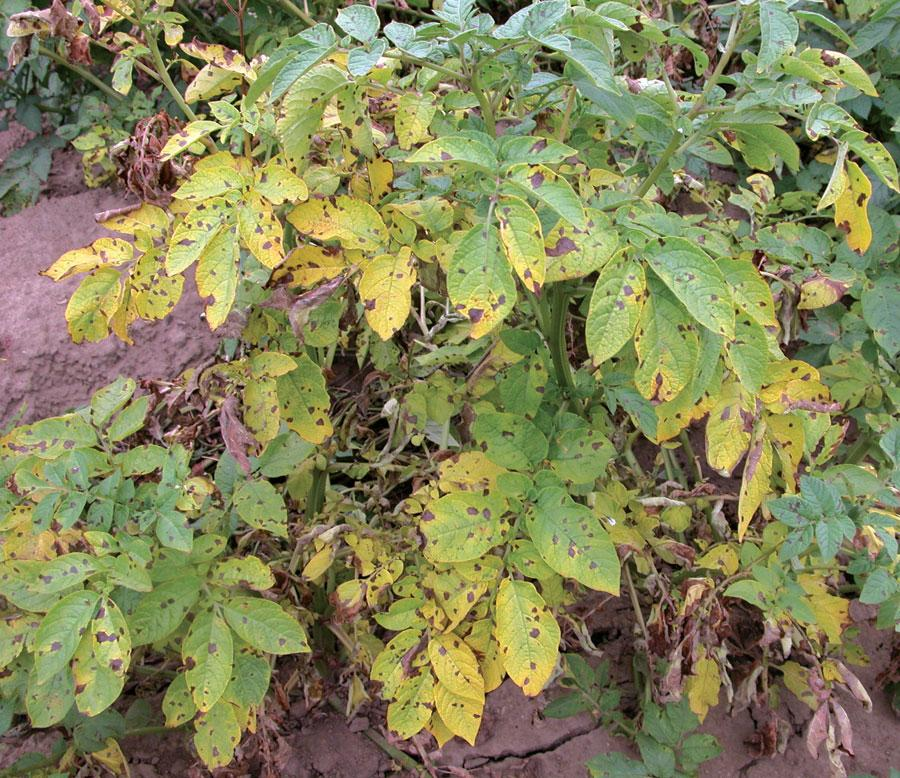Potato leaf late blight: (441, 219, 525, 350), (528, 501, 634, 595), (284, 191, 397, 259), (585, 242, 645, 368), (637, 289, 697, 408), (540, 201, 618, 281), (164, 194, 234, 280), (420, 493, 513, 553), (358, 253, 418, 334), (741, 418, 777, 549), (437, 445, 514, 501), (42, 235, 136, 280), (701, 402, 759, 473), (236, 188, 285, 272), (760, 354, 825, 414), (148, 119, 226, 156), (167, 166, 247, 201), (256, 165, 310, 202)
